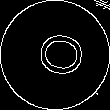O_W: (26, 29, 84, 81)
